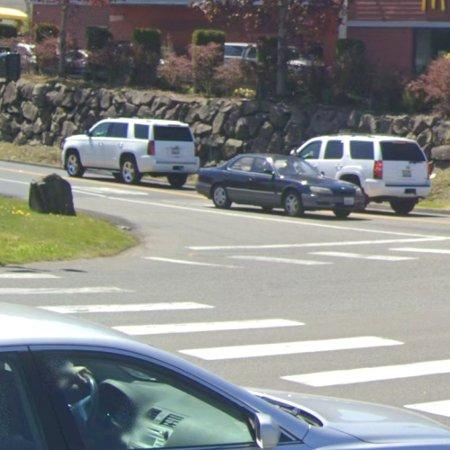crosswalks: (0, 271, 450, 420)
